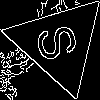S: (34, 18, 89, 64)
